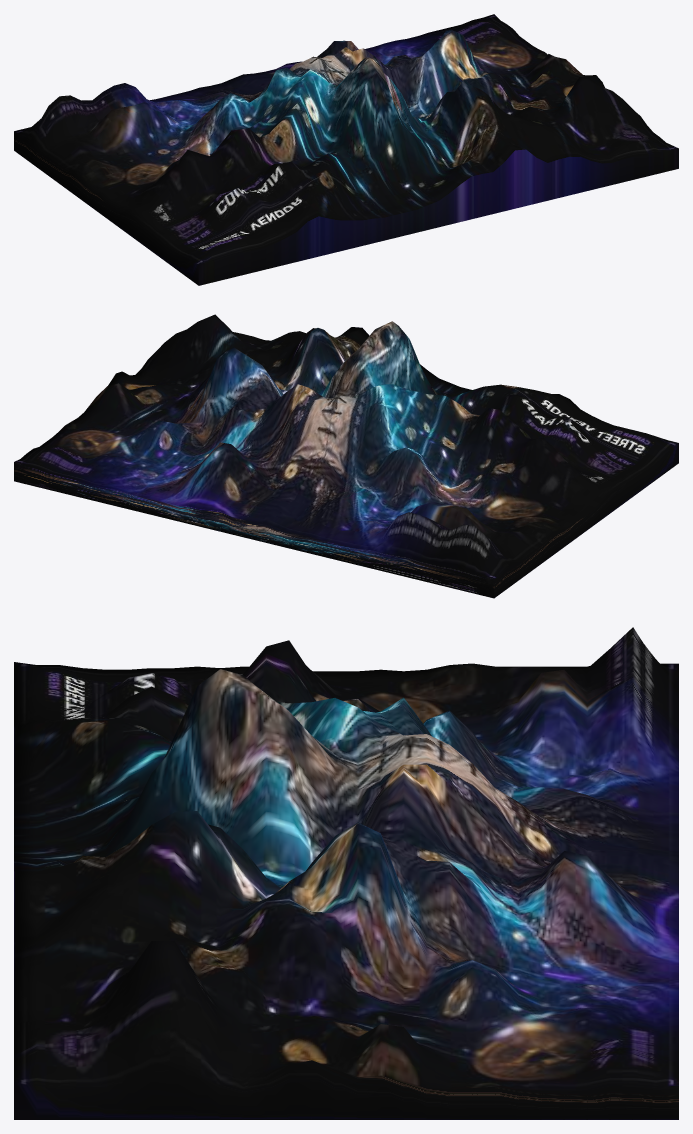
Rendered from CAREER_01_VFX_02_Coin_Rain.glb.
3 views of the same model, one above another, from view 1: azimuth 30°, elevation 25°; view 2: azimuth 150°, elevation 25°; view 3: azimuth 270°, elevation 25° (orthographic). The views are drawn at different scales.
Parts seen in each view (by area): view 1: CAREER_01_VFX_02_Coin_Rain; view 2: CAREER_01_VFX_02_Coin_Rain; view 3: CAREER_01_VFX_02_Coin_Rain.
Part boxes in pixels (left/top/right/bottom): CAREER_01_VFX_02_Coin_Rain: left=14, top=14, right=678, bottom=285; CAREER_01_VFX_02_Coin_Rain: left=14, top=314, right=678, bottom=598; CAREER_01_VFX_02_Coin_Rain: left=14, top=627, right=678, bottom=1119.
Bounding box in the file's own units: 2 × 0.51 × 1.33.
1 material, 1 textured.
